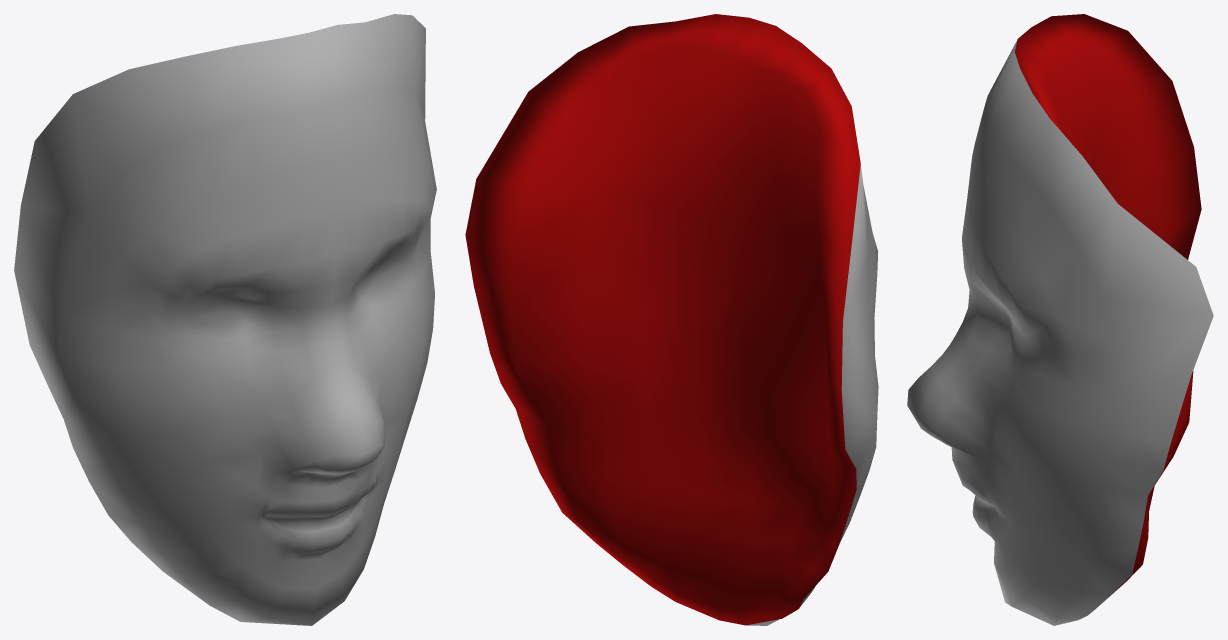
The model's file is Water_low.fbx.
The picture shows the model from 3 angles, left to right: view 1: azimuth 30°, elevation 25°; view 2: azimuth 150°, elevation 25°; view 3: azimuth 270°, elevation 25°; orthographic projection. The views are drawn at different scales.
Visible parts, largest first — view 1: Water_low; view 2: Water_low; view 3: Water_low.
Boxes of the visible parts, box(x1,y1,x2,y2) form: Water_low: box(14, 14, 436, 625); Water_low: box(465, 14, 878, 625); Water_low: box(907, 14, 1213, 625).
Size of the model in its own units: 0.1503 by 0.2266 by 0.111.
